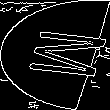M_E: (6, 27, 104, 83)
